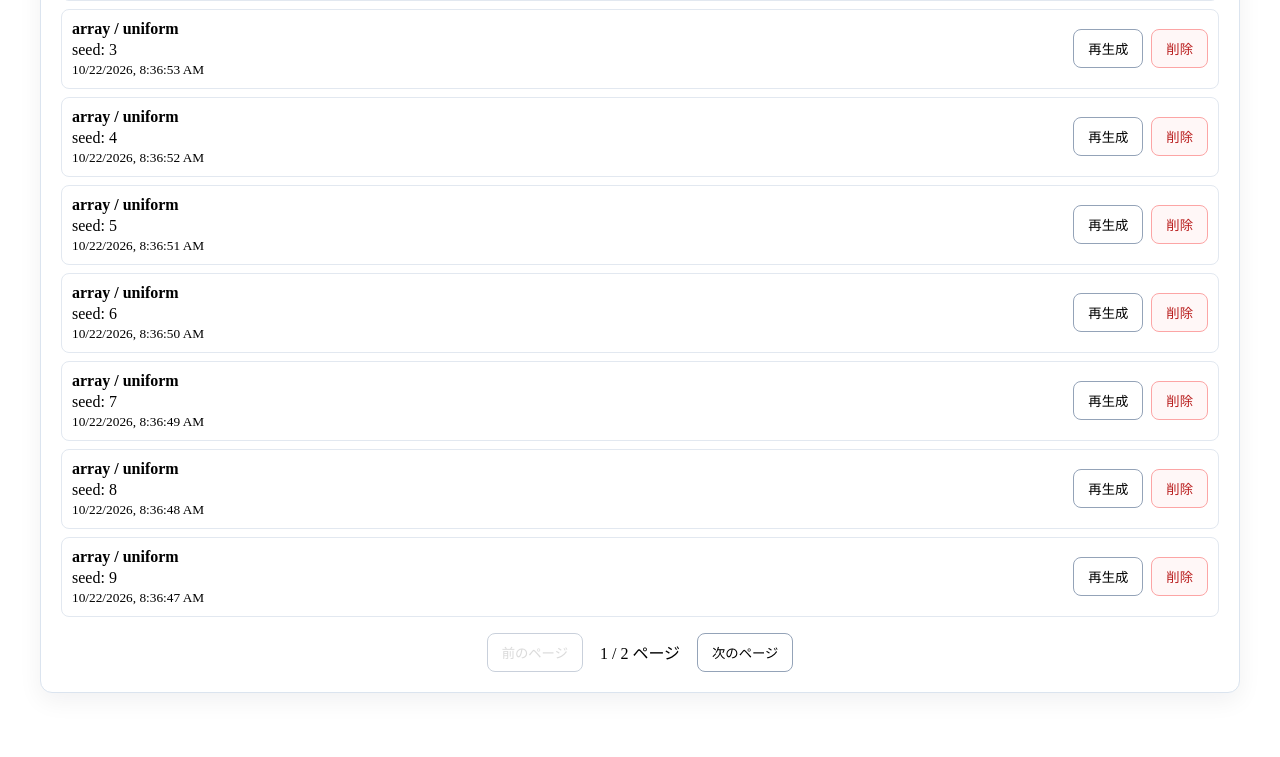
Scenario: paginates guest history by ten and returns after deleting the last item on page two
(page scrolled)
What coordinates should you click on to do the following:
click the button "次のページ"
I would click on:
 (745, 652)
Its box is [697,633,793,672].
(page scrolled)
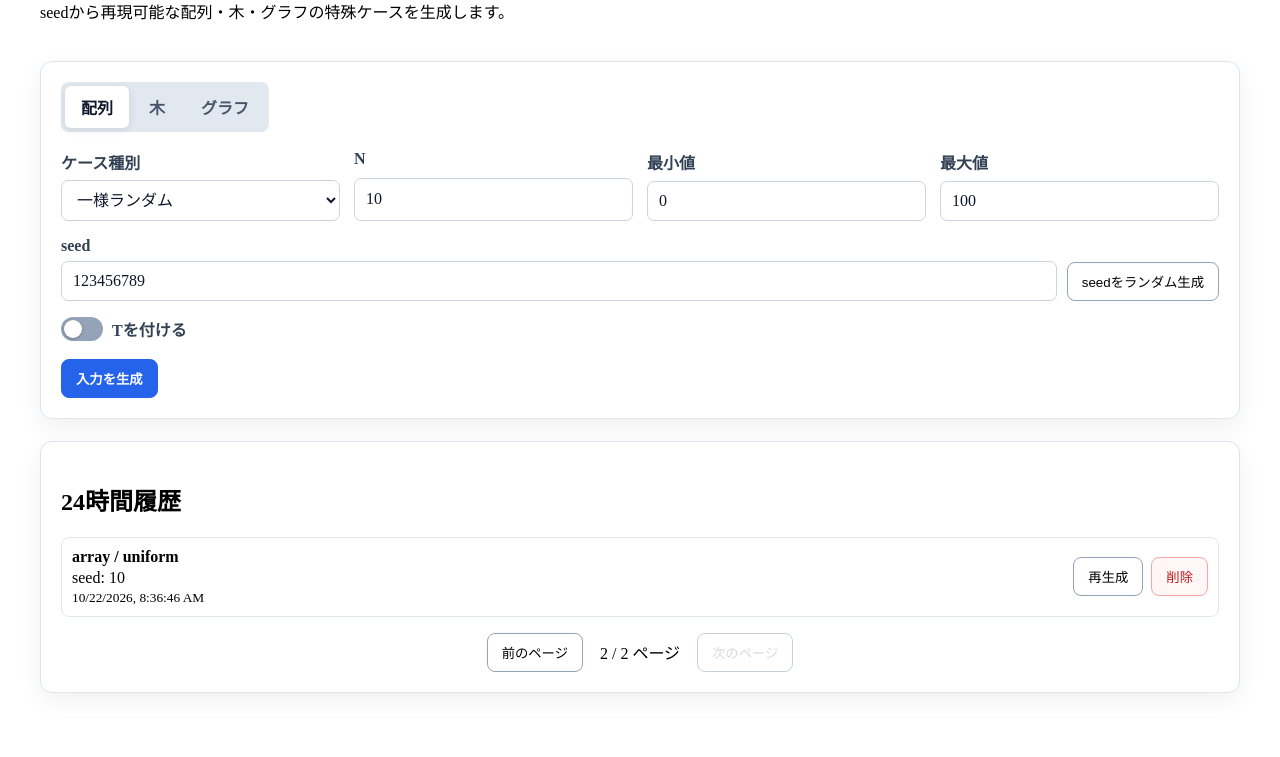
Check: the text "seed: 10" is shown, box [72,569,125,586]
What coordinates should you click on to do the following:
click the button "削除"
I would click on:
 (1180, 577)
Its box is [1151,557,1208,596].
(page scrolled)
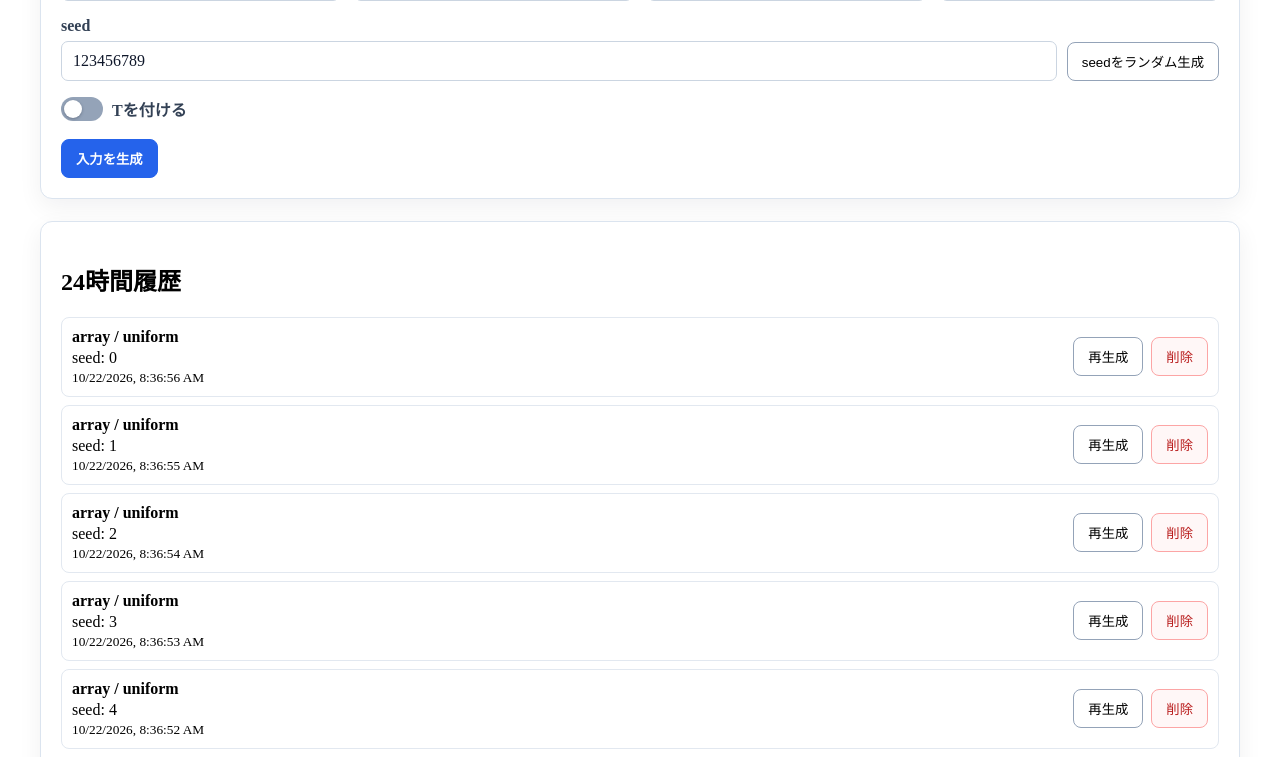
Check: the text "1 / 2 ページ" is not shown
Check: the text "seed: 0" is shown, box [72,349,117,366]
